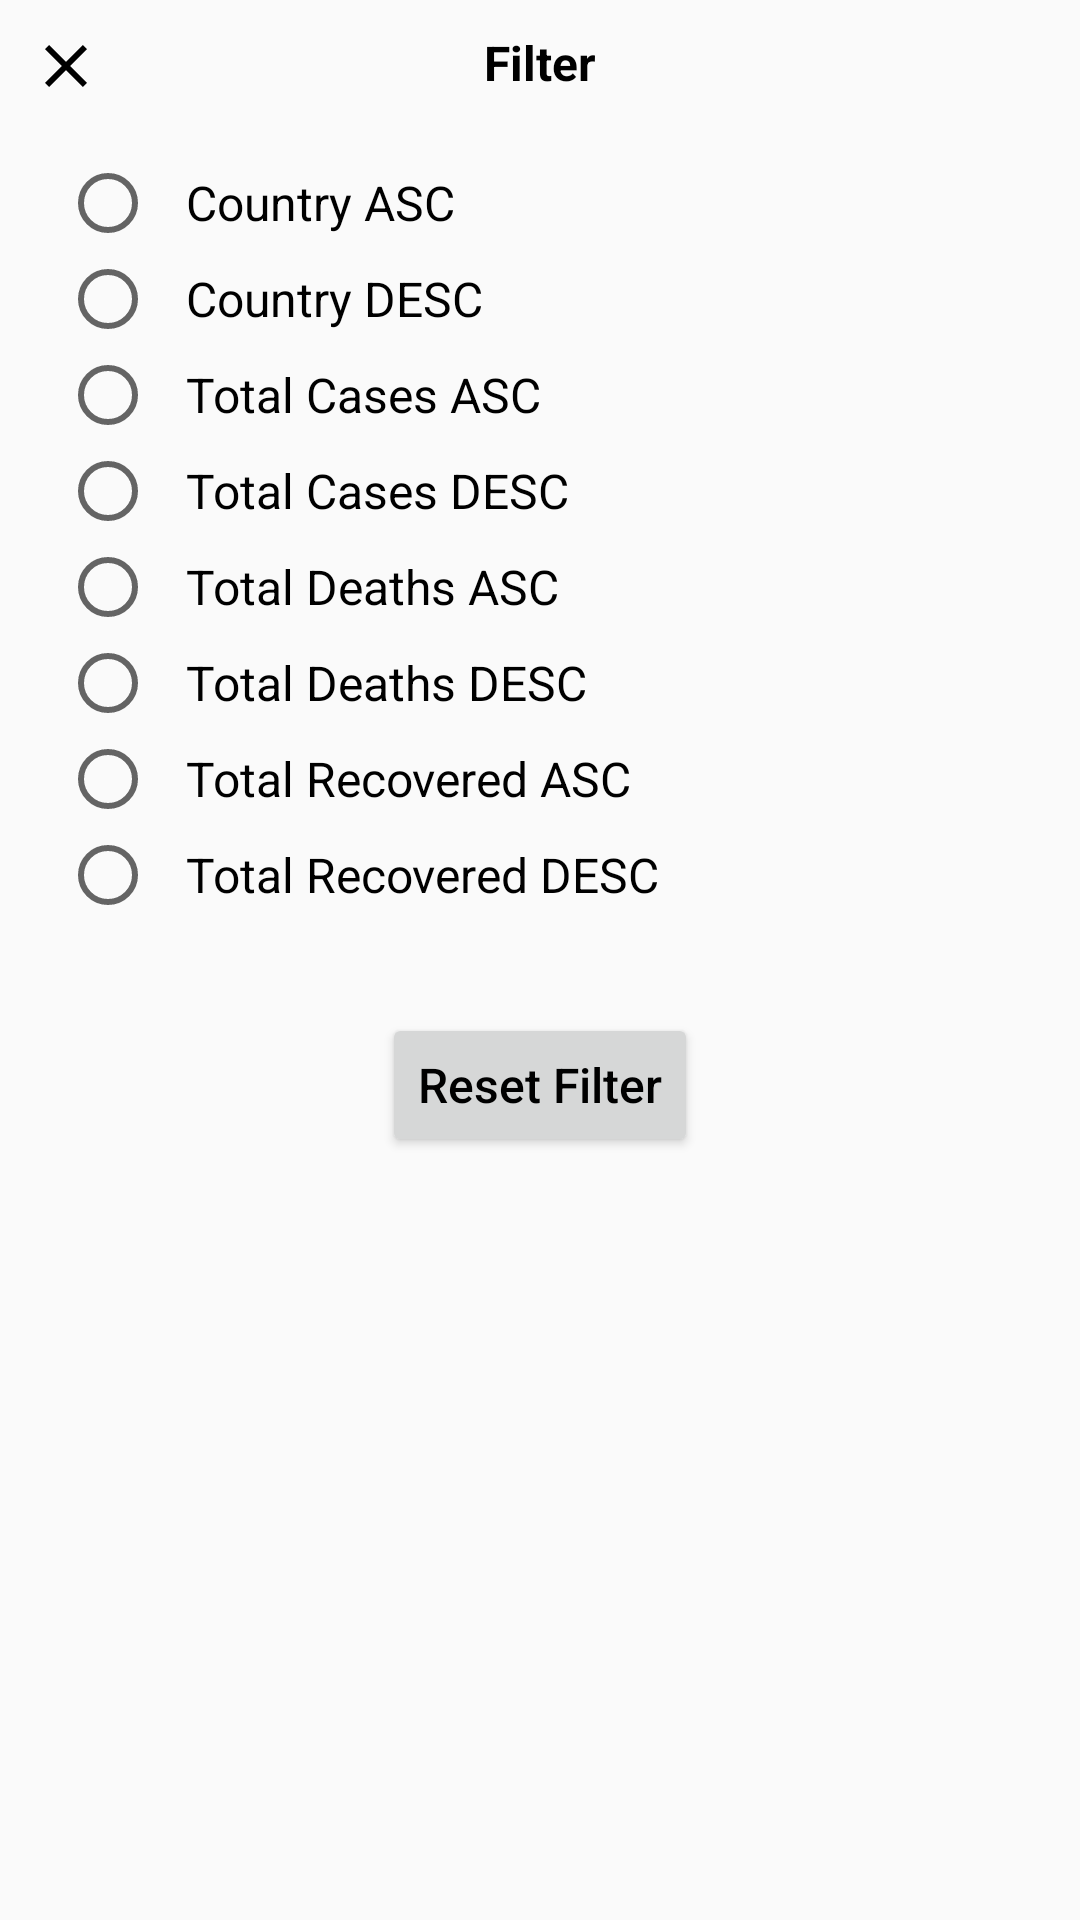

Icons on this 1080x1920 Android screen, each with the point to tap as (x,y):
close: (66,66)
